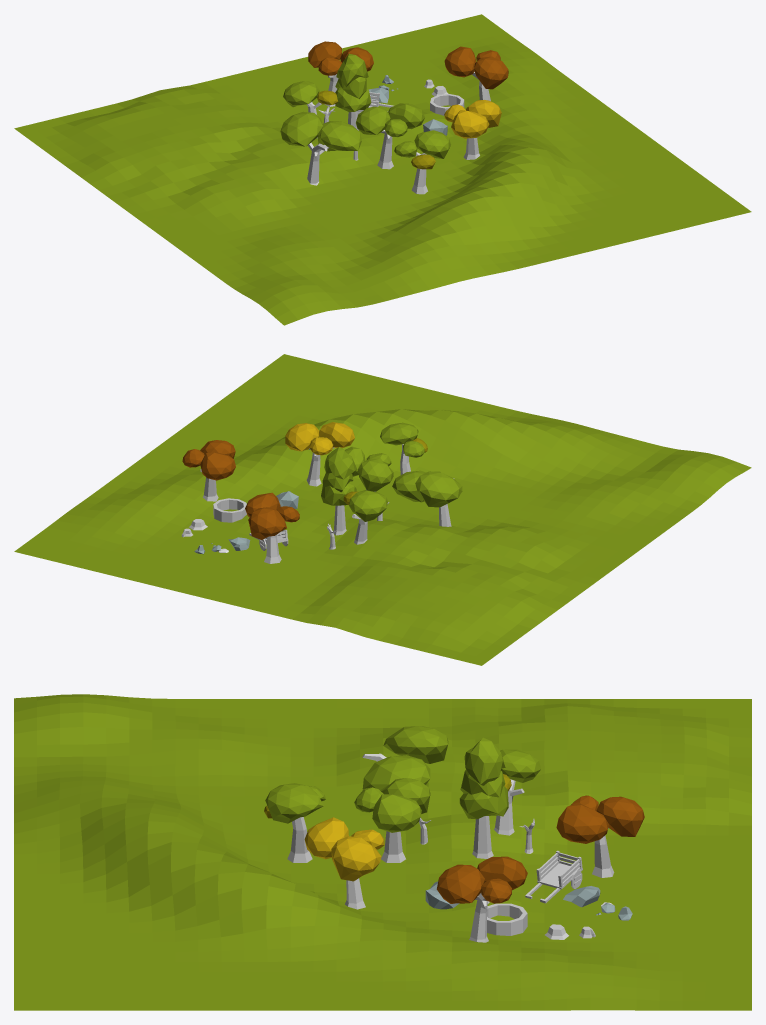
The model's file is FOREST.fbx.
The picture shows the model from 3 angles, top to bottom: view 1: azimuth 30°, elevation 25°; view 2: azimuth 150°, elevation 25°; view 3: azimuth 270°, elevation 25°; orthographic projection. The views are drawn at different scales.
Parts seen in each view (by area): view 1: Plane, Cube.002, Cube, Cube.012, Cube.010, Cube.003, Cube.001, Cube.013, Cube.011; view 2: Plane, Cube.002, Cube.010, Cube.013, Cube.003, Cube.012, Cube, Cube.011, Cube.001, Cylinder; view 3: Plane, Cube.012, Cube.013, Cube.003, Cube.010, Cube.002, Cube, Cube.001, Cube.011, Cube.014, Cylinder, Cube.009.
Boxes of the visible parts, bbox=[...] form: Plane: bbox=[14, 14, 751, 325]; Cube.002: bbox=[280, 111, 361, 185]; Cube: bbox=[356, 103, 425, 169]; Cube.012: bbox=[444, 46, 508, 101]; Cube.010: bbox=[444, 100, 501, 159]; Cube.003: bbox=[335, 53, 371, 130]; Cube.001: bbox=[394, 130, 450, 194]; Cube.013: bbox=[308, 41, 373, 106]; Cube.011: bbox=[283, 81, 338, 138]; Plane: bbox=[14, 354, 751, 665]; Cube.002: bbox=[392, 470, 462, 526]; Cube.010: bbox=[285, 422, 354, 486]; Cube.013: bbox=[245, 492, 299, 563]; Cube.003: bbox=[321, 447, 356, 535]; Cube.012: bbox=[182, 440, 235, 501]; Cube: bbox=[345, 446, 393, 491]; Cube.011: bbox=[343, 490, 387, 544]; Cube.001: bbox=[380, 422, 427, 474]; Cylinder: bbox=[213, 498, 246, 522]; Plane: bbox=[14, 694, 751, 1010]; Cube.012: bbox=[436, 856, 527, 942]; Cube.013: bbox=[556, 795, 644, 877]; Cube.003: bbox=[459, 737, 508, 858]; Cube.010: bbox=[304, 817, 384, 909]; Cube.002: bbox=[362, 726, 448, 791]; Cube: bbox=[354, 778, 430, 862]; Cube.001: bbox=[264, 783, 326, 862]; Cube.011: bbox=[494, 749, 540, 835]; Cube.014: bbox=[525, 850, 582, 903]; Cylinder: bbox=[487, 903, 527, 935]; Cube.009: bbox=[563, 886, 600, 907].
Size of the model in its own units: 3083 by 588 by 3083.
